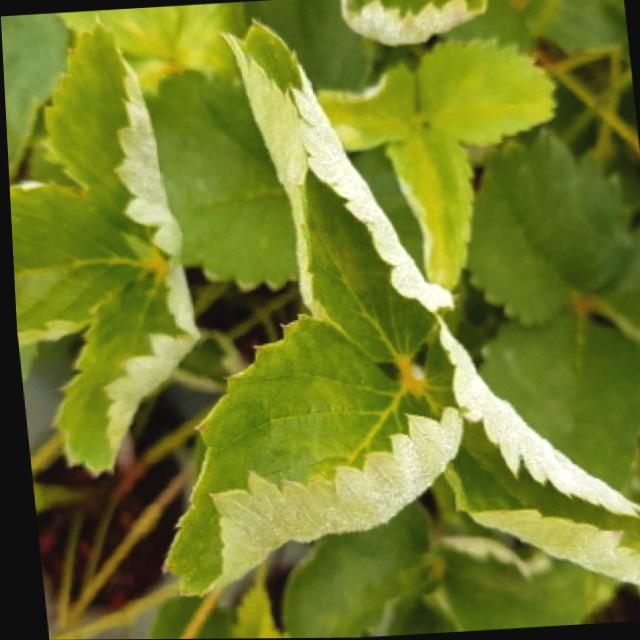Powdery Mildew Leaf: (151, 312, 461, 597), (218, 18, 452, 366), (416, 315, 640, 585), (37, 15, 182, 268), (45, 262, 200, 479), (8, 179, 162, 349), (340, 0, 488, 49)
